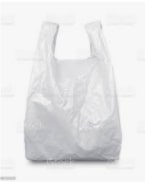kantong: (23, 20, 123, 162)
